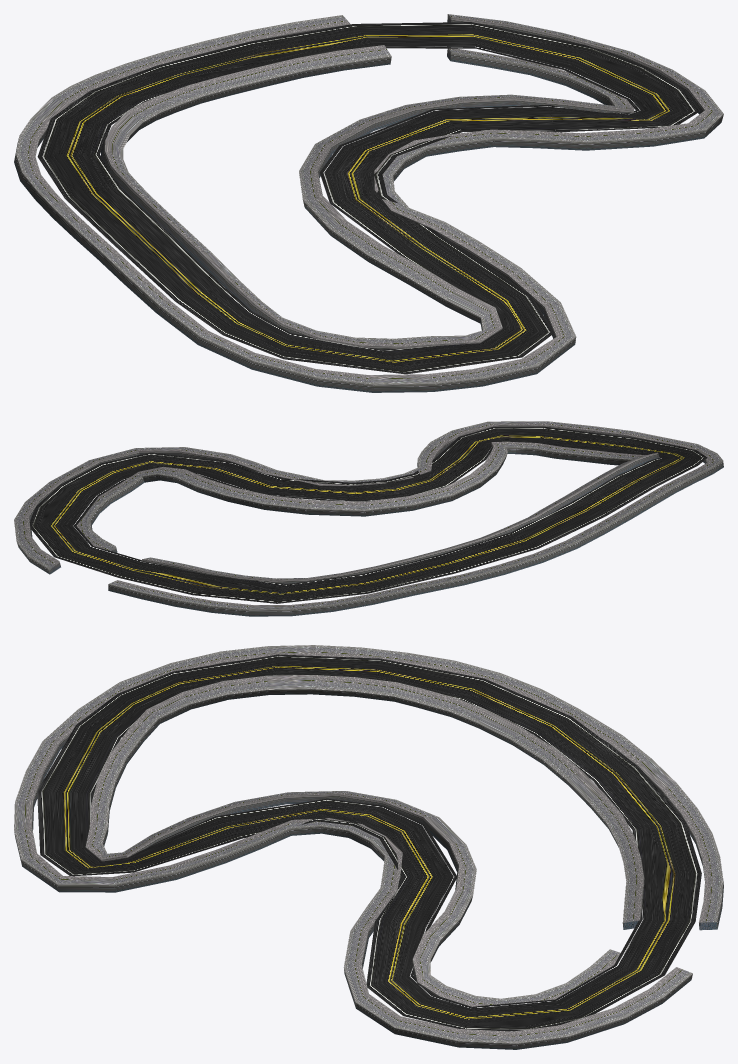
The model's file is road_2.fbx.
3 renders of one model, top to bottom at view 1: azimuth 30°, elevation 25°; view 2: azimuth 150°, elevation 25°; view 3: azimuth 270°, elevation 25°, orthographic. The views are drawn at different scales.
Parts seen in each view (by area): view 1: polySurface5; view 2: polySurface5; view 3: polySurface5.
Part boxes in pixels (x1,y1,x2,y2): polySurface5: [14, 14, 723, 392]; polySurface5: [14, 421, 723, 616]; polySurface5: [14, 645, 723, 1049].
Size of what is drawn, in the model's own units: 49.93 by 7.18 by 47.66.
Materials: 2 (2 with a texture image).
